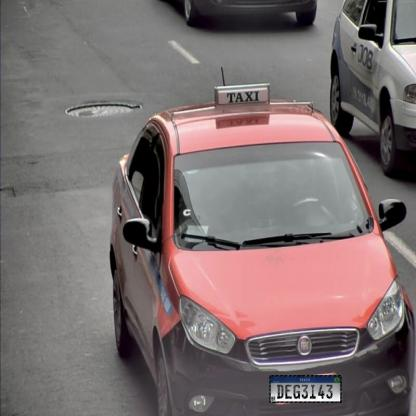PlacaM: (269, 375, 342, 403)
